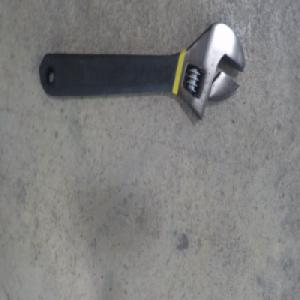AdjustableWrench: (38, 21, 243, 123)
